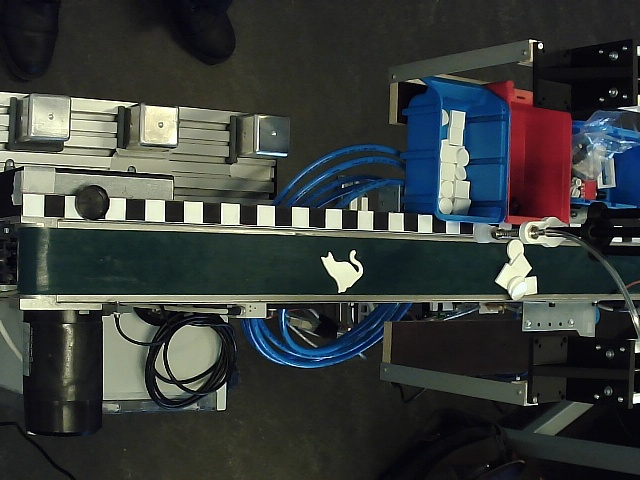cat: (320, 248, 363, 294)
